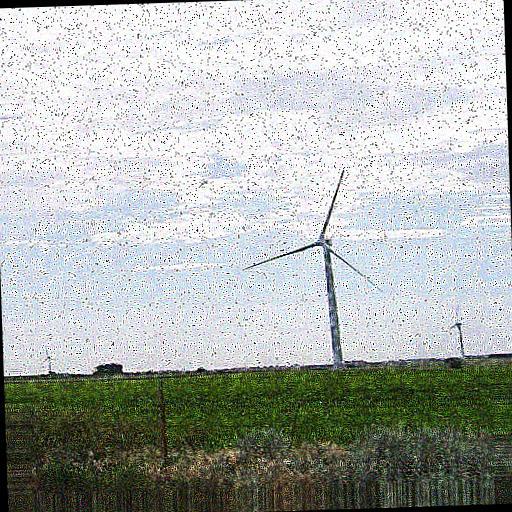wind turbine: (240, 166, 388, 373)
